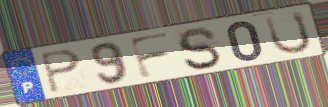0: (225, 20, 265, 63)
9: (89, 40, 132, 86)
F: (126, 30, 173, 81)
P: (38, 48, 84, 95)
S: (175, 26, 224, 72)
U: (263, 8, 314, 56)
